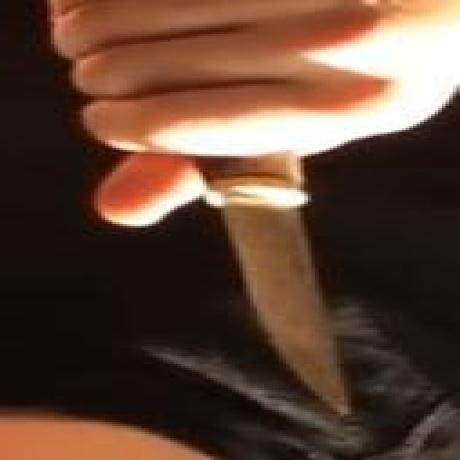1: (43, 0, 460, 230)
weapon: (185, 152, 375, 424)
